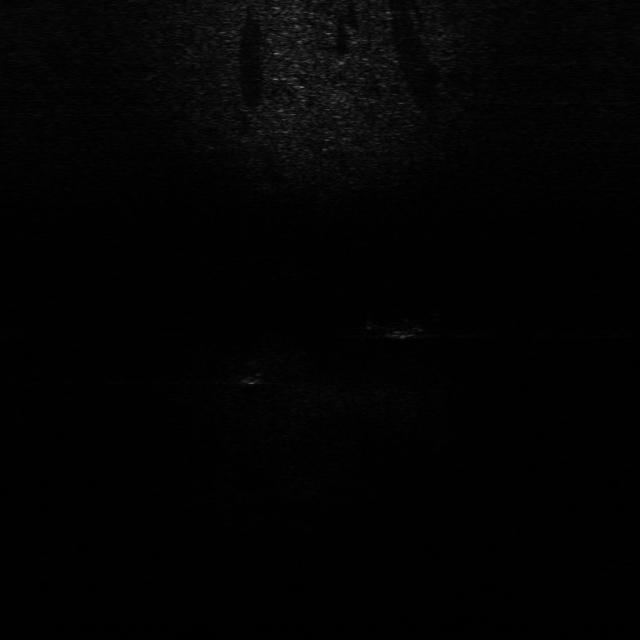ball: (230, 357, 272, 388)
human body: (367, 310, 454, 339)
